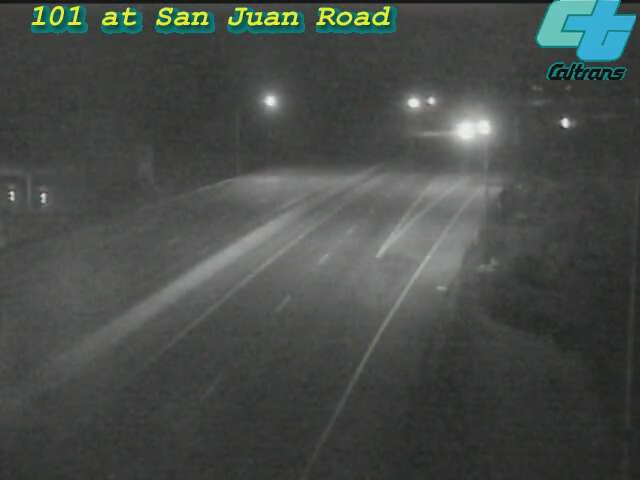vehicle: (539, 99, 589, 149), (438, 106, 488, 156), (458, 103, 508, 153)
